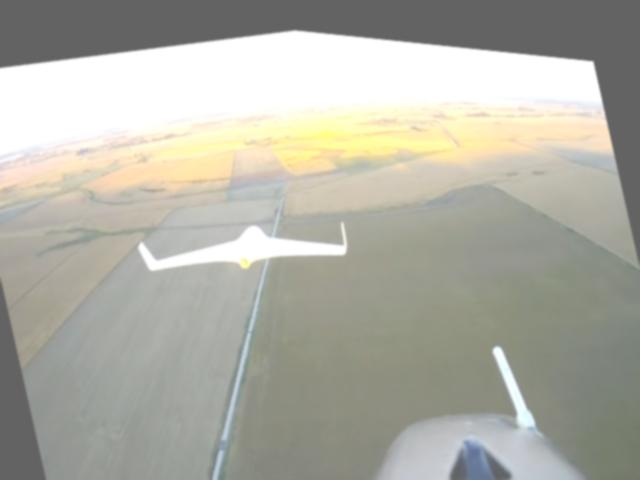plane: (136, 190, 350, 296)
